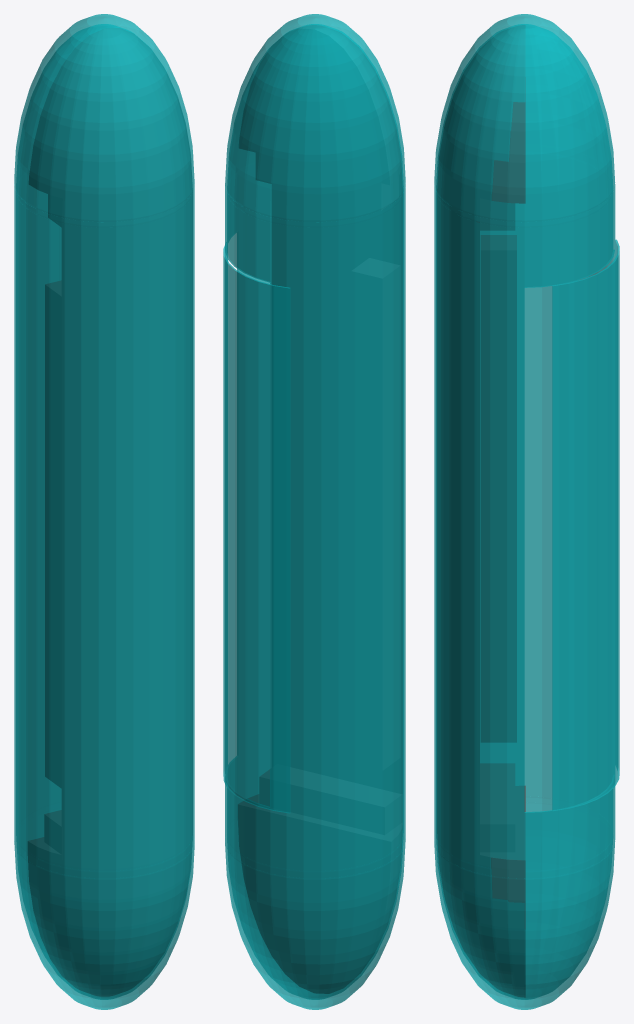
The model's file is Animation-CapsuleDeTranspore-Matariaux.fbx.
3 renders of one model, left to right at view 1: azimuth 30°, elevation 25°; view 2: azimuth 150°, elevation 25°; view 3: azimuth 270°, elevation 25°, orthographic.
Parts seen in each view (by area): view 1: CapsuleTram, SolSiege; view 2: CapsuleTram, SolSiege, Porte; view 3: CapsuleTram, SolSiege, Porte.
Boxes of the visible parts, left/top/right/bottom form: CapsuleTram: left=14, top=14, right=194, bottom=1009; SolSiege: left=28, top=28, right=192, bottom=996; CapsuleTram: left=225, top=14, right=405, bottom=1009; SolSiege: left=238, top=25, right=402, bottom=993; Porte: left=223, top=242, right=290, bottom=813; CapsuleTram: left=434, top=14, right=615, bottom=1009; SolSiege: left=437, top=25, right=525, bottom=997; Porte: left=552, top=239, right=619, bottom=811.
Size of the model in its own units: 500 by 3009 by 513.
